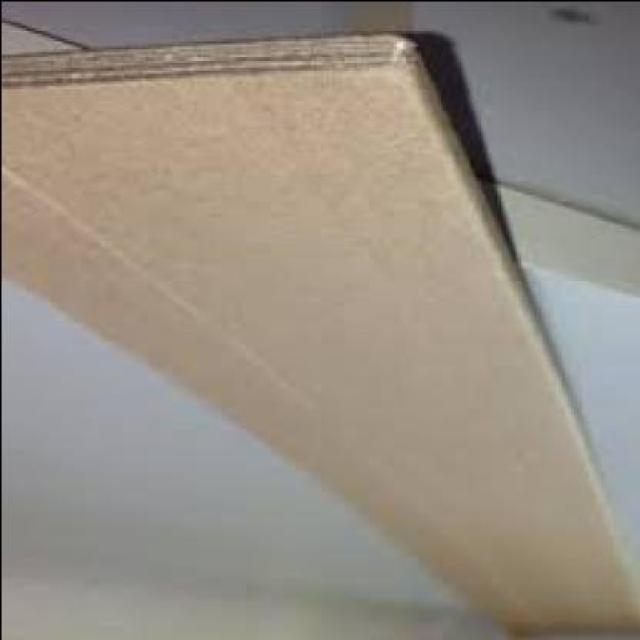CARDBOARD: (1, 29, 640, 638)
